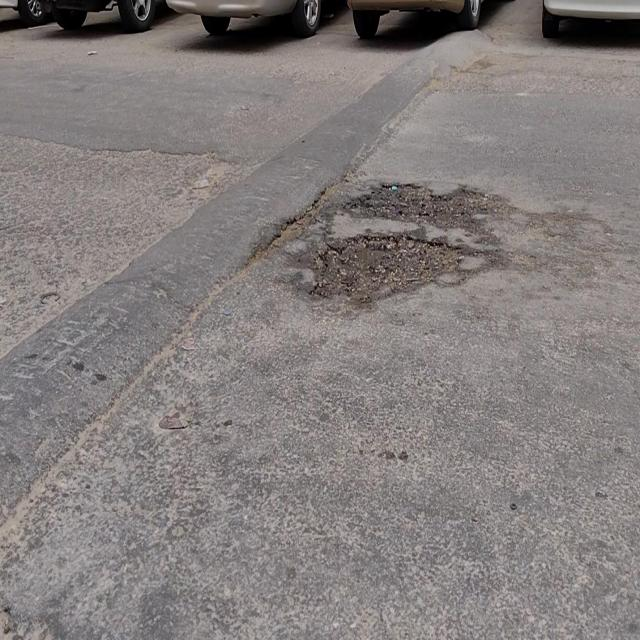Potholes: (311, 237, 464, 302), (349, 180, 485, 232)
